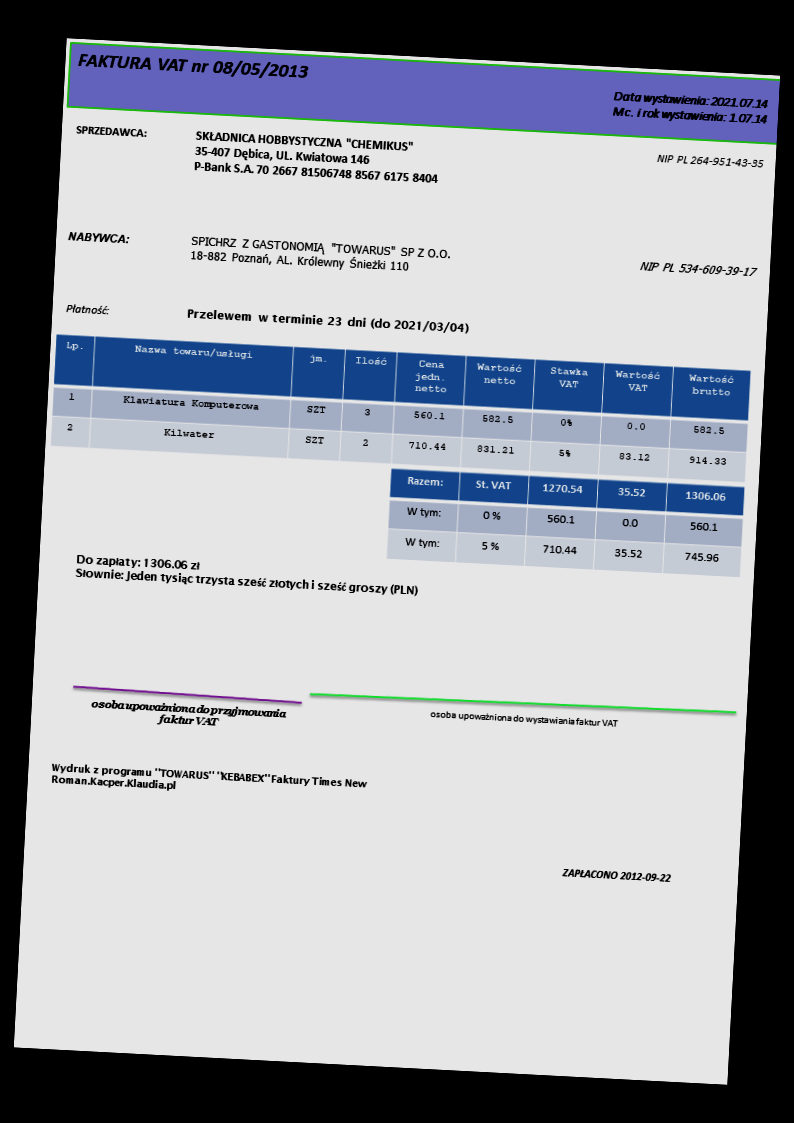Table: (48, 333, 751, 484), (385, 467, 746, 577)
TextBox: (73, 552, 421, 599), (191, 127, 443, 187), (48, 760, 369, 804), (187, 233, 454, 276), (185, 306, 471, 336), (75, 50, 310, 83), (89, 696, 288, 731), (609, 88, 770, 128), (428, 708, 619, 731), (638, 259, 758, 280), (560, 864, 672, 886), (655, 151, 764, 170), (73, 122, 149, 141), (66, 228, 131, 247), (64, 301, 110, 317)
